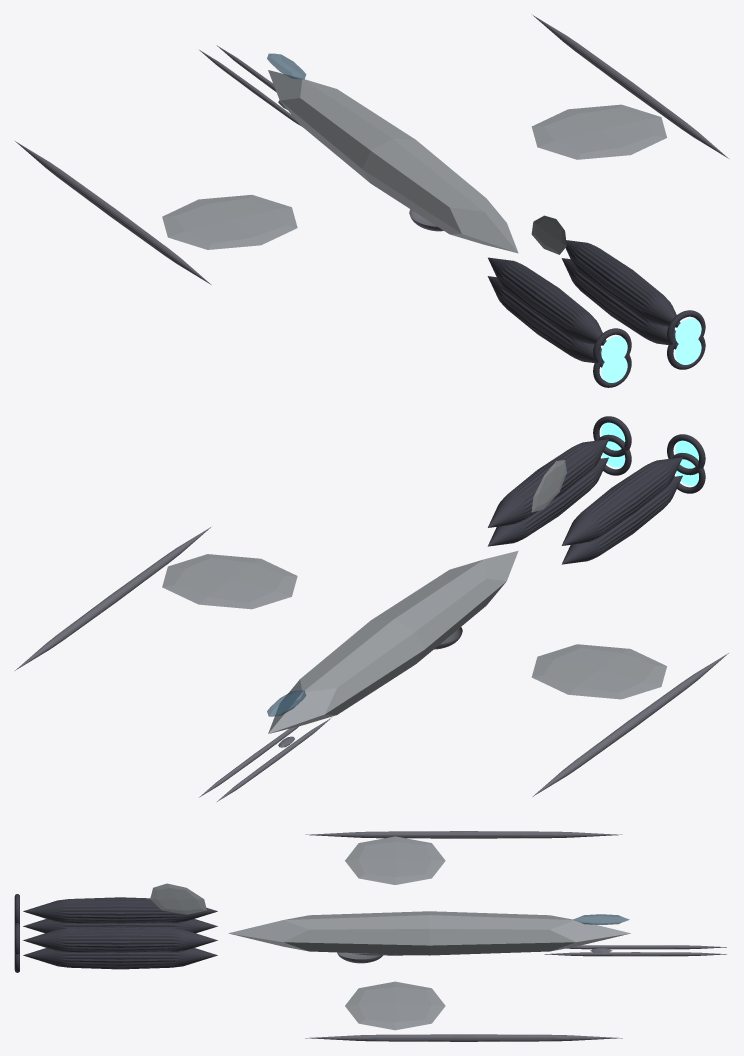
Rendered from viper_fighter_LOD0.fbx.
3 renders of one model, top to bottom at view 1: azimuth 30°, elevation 25°; view 2: azimuth 150°, elevation 25°; view 3: azimuth 270°, elevation 25°, orthographic. The views are drawn at different scales.
Visible parts, largest first — view 1: Viper_Fighter_LOD0; view 2: Viper_Fighter_LOD0; view 3: Viper_Fighter_LOD0.
Boxes of the visible parts, left/top/right/bottom form: Viper_Fighter_LOD0: left=15, top=15, right=728, bottom=387; Viper_Fighter_LOD0: left=15, top=416, right=728, bottom=801; Viper_Fighter_LOD0: left=14, top=831, right=726, bottom=1041.
Bounding box in the file's own units: 7.11 × 1.23 × 10.42.
